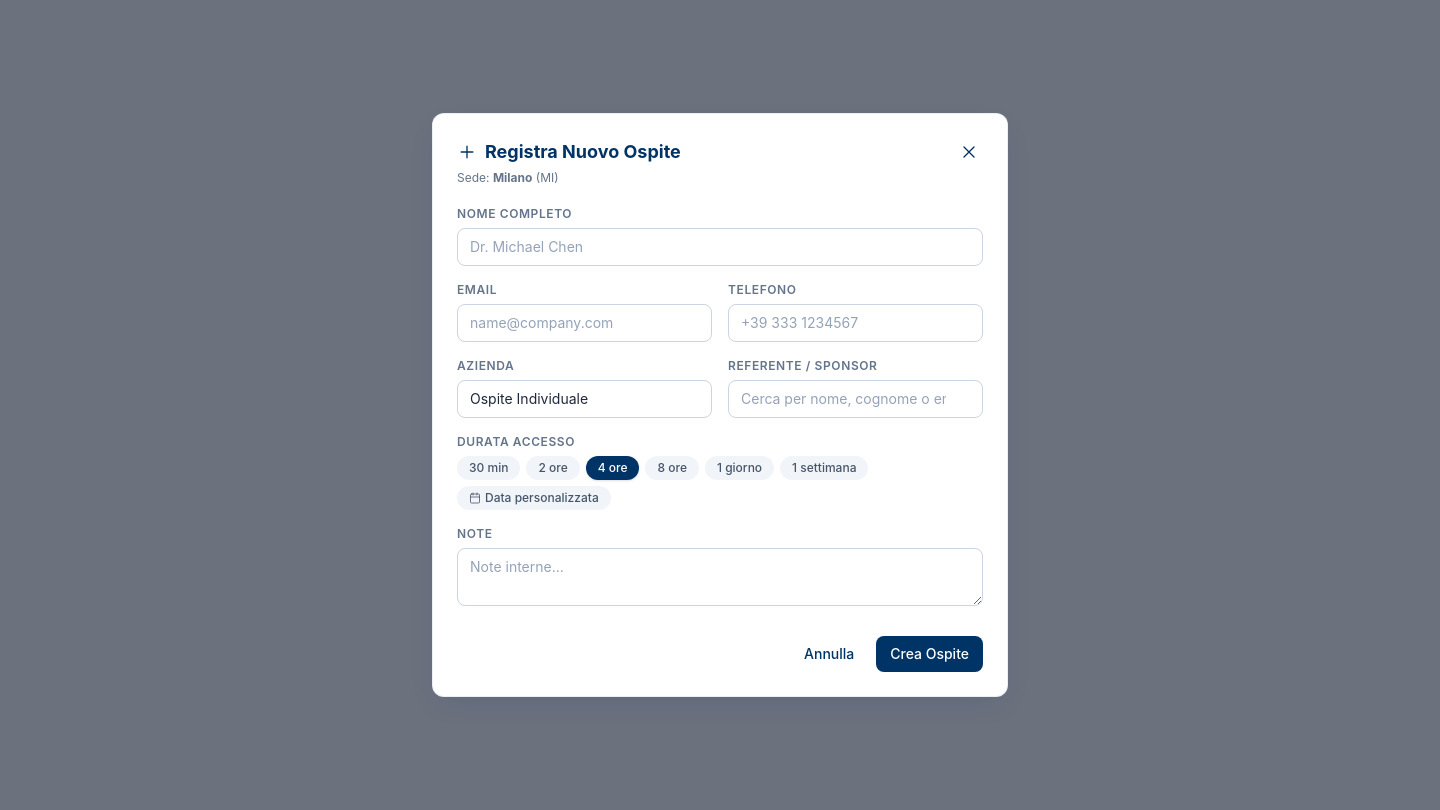
RegisterGuestModal › shows error when create fails
Step 1. Type "Test Guest" into the field labelled "Nome completo" → (720, 247), box [457, 228, 983, 266]
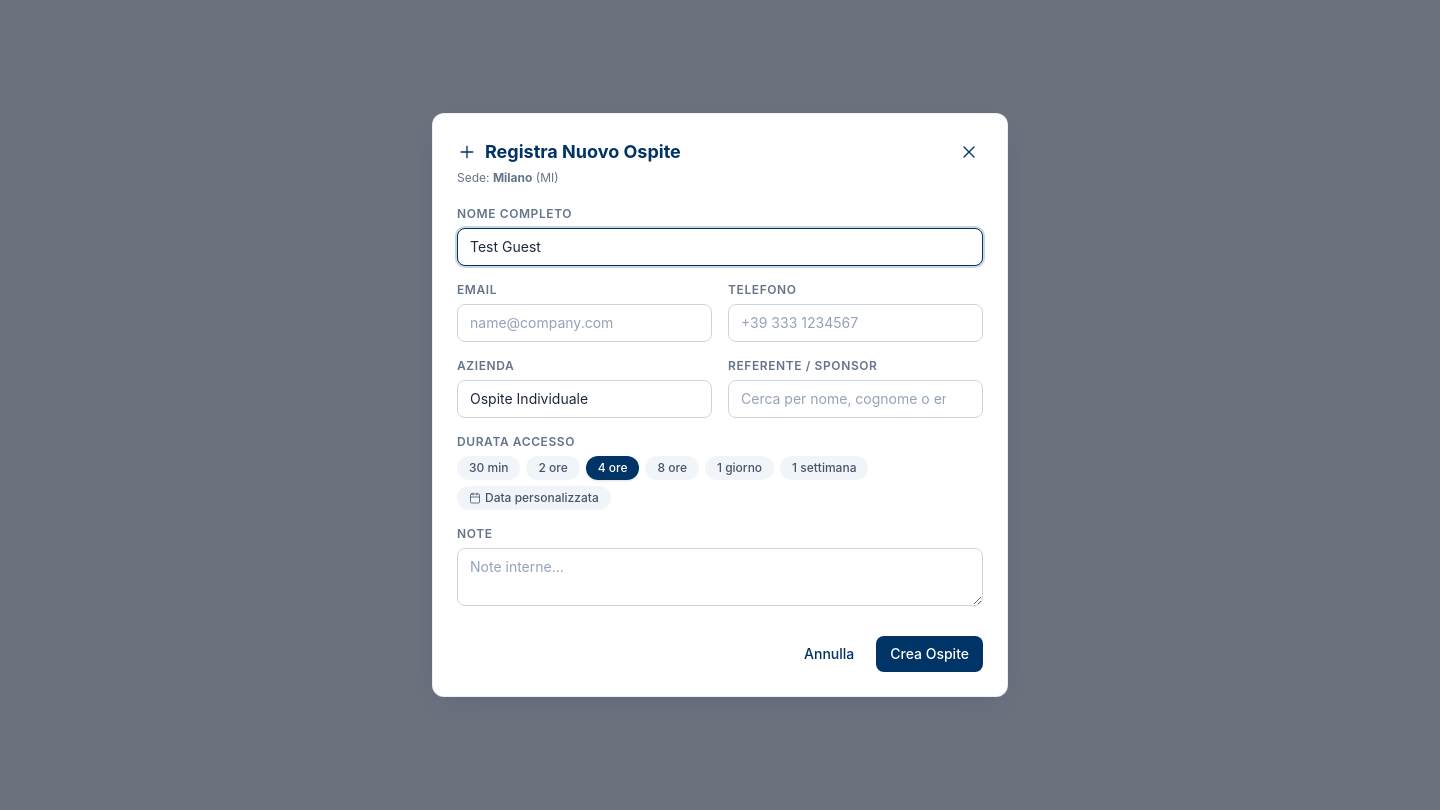
Step 2. Type "Dr. Rossi" into the dropdown labelled "Referente / Sponsor" → (856, 399), box [728, 380, 983, 418]
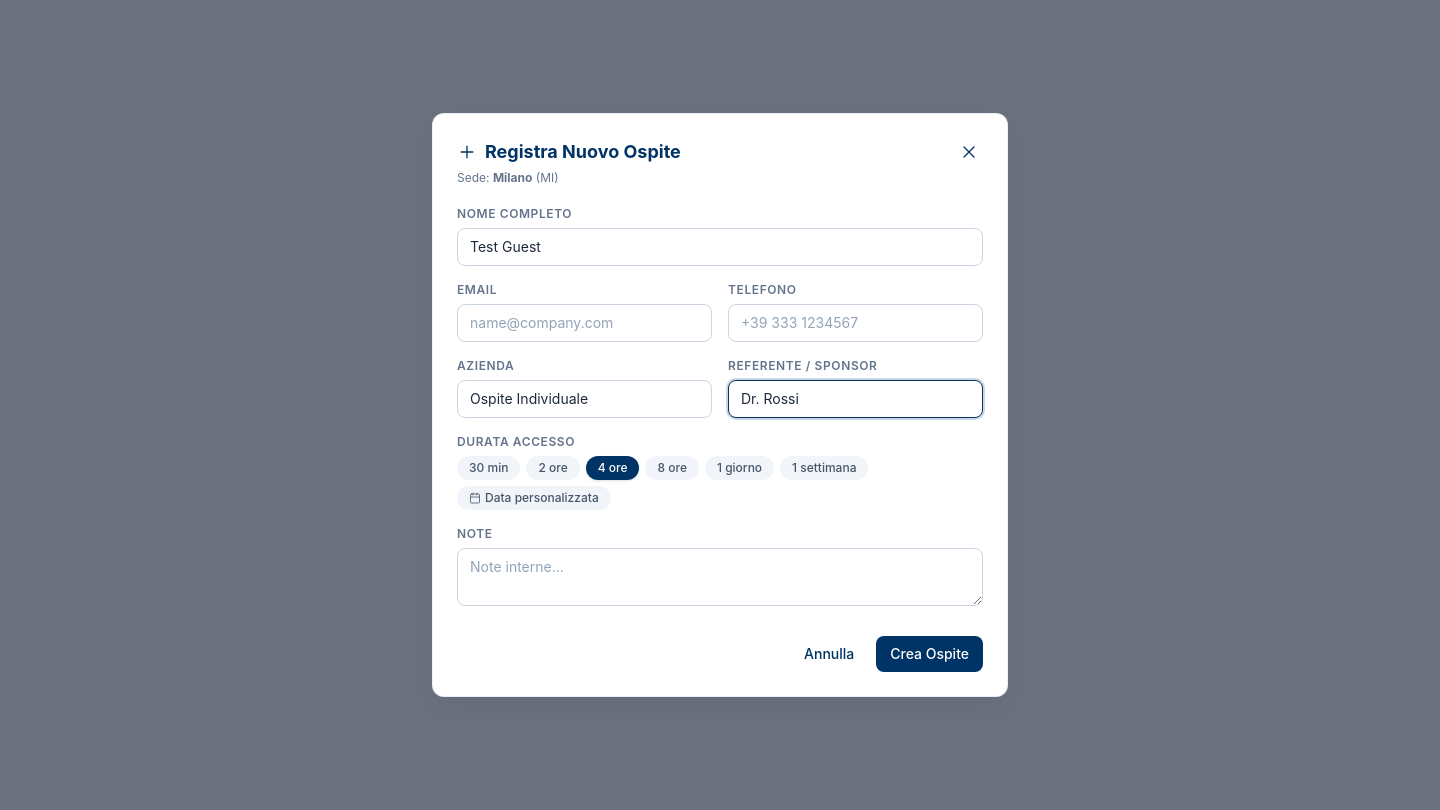
Step 3. Click the button "Crea Ospite" → click(930, 654), box [876, 636, 983, 672]
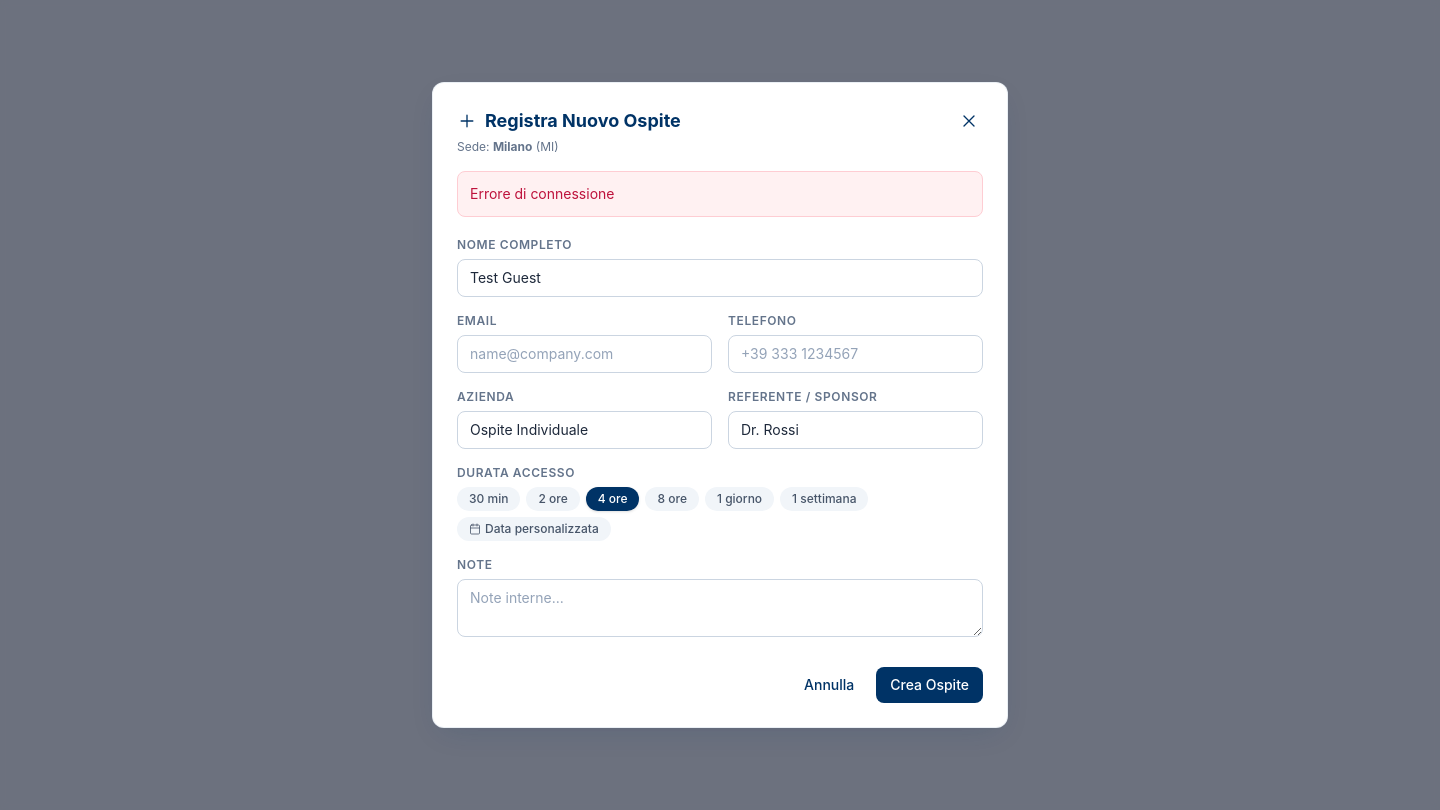
Result: the text "Errore di connessione" is shown at [457, 171, 983, 217]
